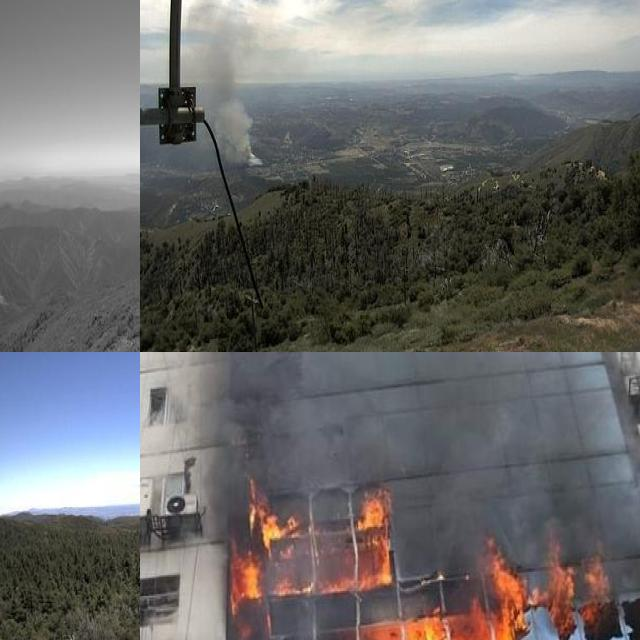fire: (234, 483, 616, 640)
smoke: (199, 352, 640, 575), (182, 0, 272, 168)
